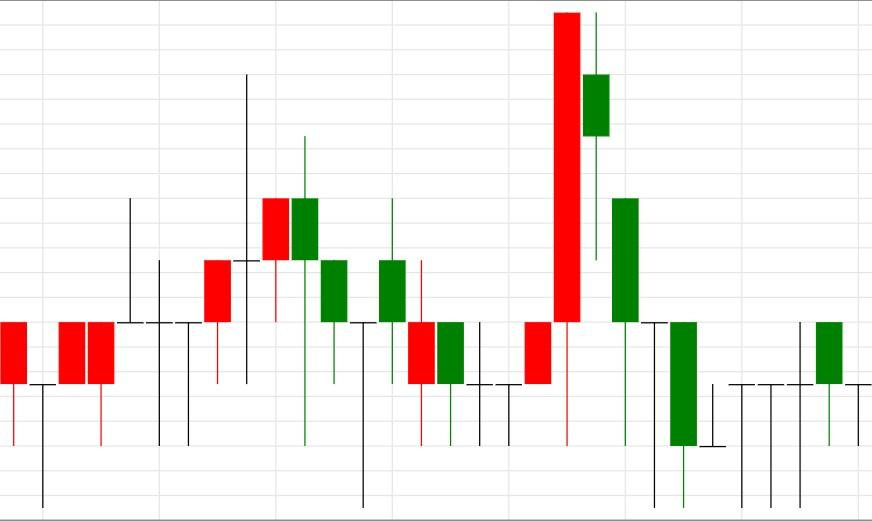bearish_engulfing_fall: (28, 73, 319, 507)
